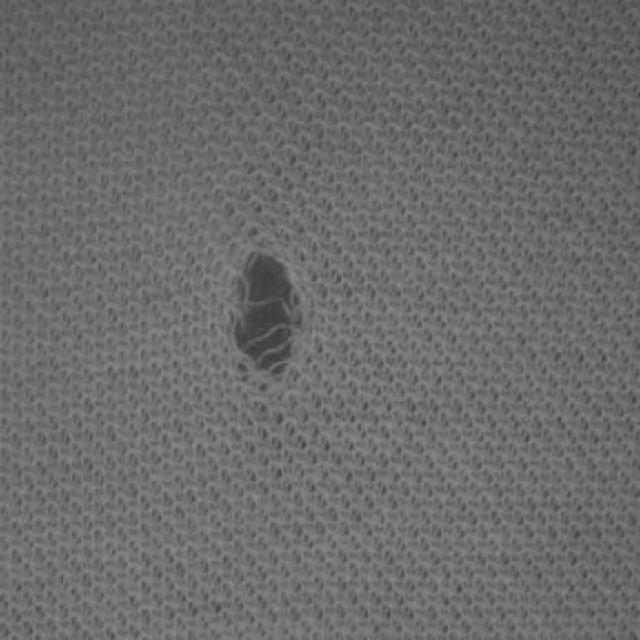Hole: (231, 251, 303, 375)
